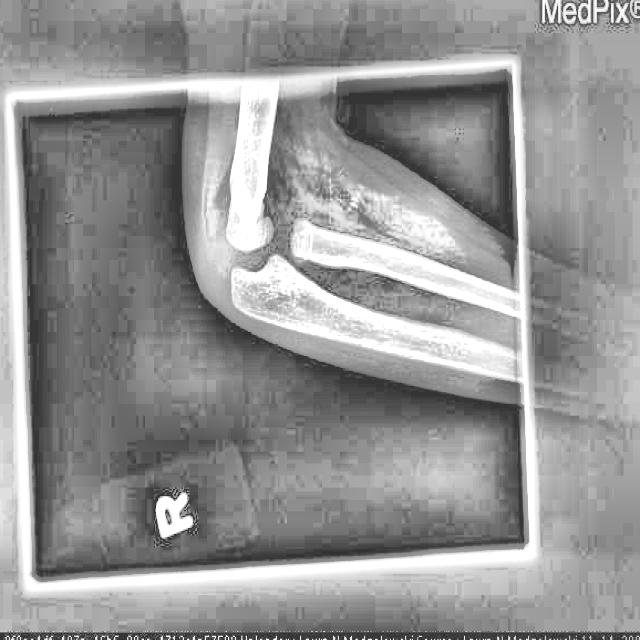line: (226, 94, 265, 186)
